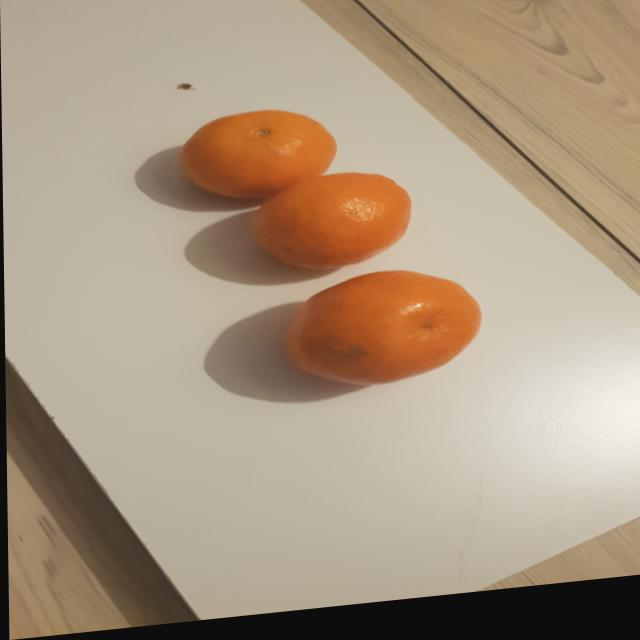Orange: (281, 279, 481, 394), (250, 180, 411, 277), (179, 117, 338, 208)
